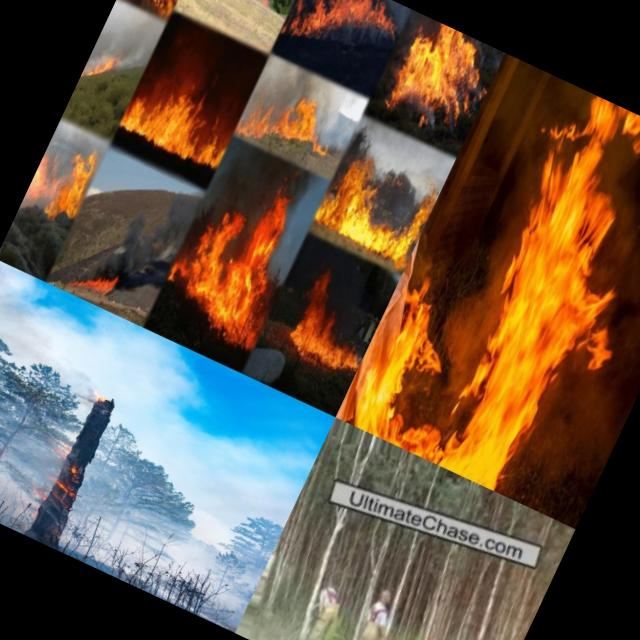fire: (408, 85, 640, 504), (155, 172, 309, 348), (345, 256, 482, 440), (374, 14, 506, 154), (309, 138, 445, 272), (116, 70, 242, 180), (282, 273, 387, 382), (282, 0, 406, 76), (237, 82, 345, 166), (22, 130, 102, 223), (74, 44, 122, 102), (50, 457, 96, 508), (71, 256, 122, 300), (377, 618, 442, 640)
smoke: (61, 460, 278, 633), (0, 393, 62, 535), (98, 200, 172, 291)
